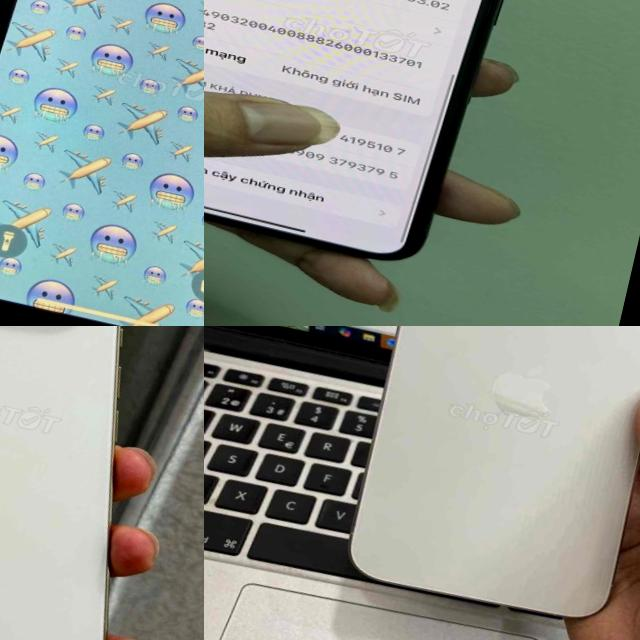gen_15: (323, 326, 640, 640)
gen_17: (0, 326, 204, 640)
gen_x_xs: (204, 0, 543, 294), (0, 0, 204, 326)
